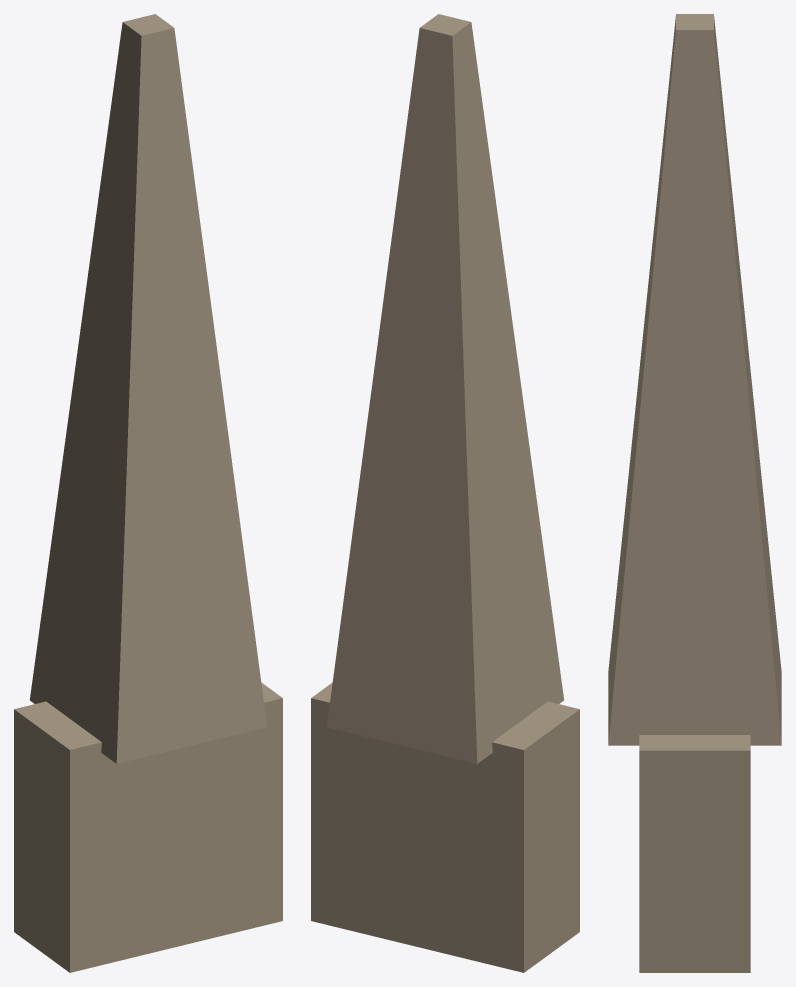
The model's file is placeholder.glb.
3 views of the same model, side by side, from view 1: azimuth 30°, elevation 25°; view 2: azimuth 150°, elevation 25°; view 3: azimuth 270°, elevation 25° (orthographic).
Parts seen in each view (by area): view 1: Cube; view 2: Cube; view 3: Cube.
Part boxes in pixels (left/top/right/bottom): Cube: left=14, top=14, right=282, bottom=972; Cube: left=311, top=14, right=579, bottom=972; Cube: left=608, top=14, right=781, bottom=972.
Size of the model in its own units: 1.1 by 4.45 by 0.7778.
